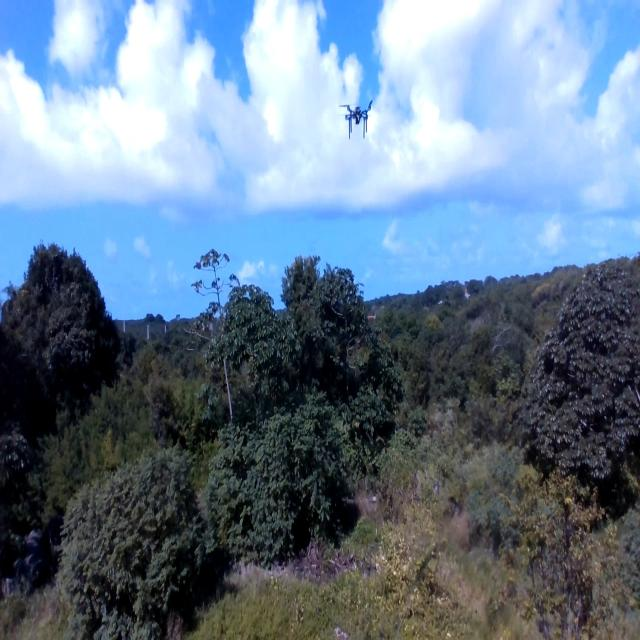-uav-: (332, 93, 386, 160)
